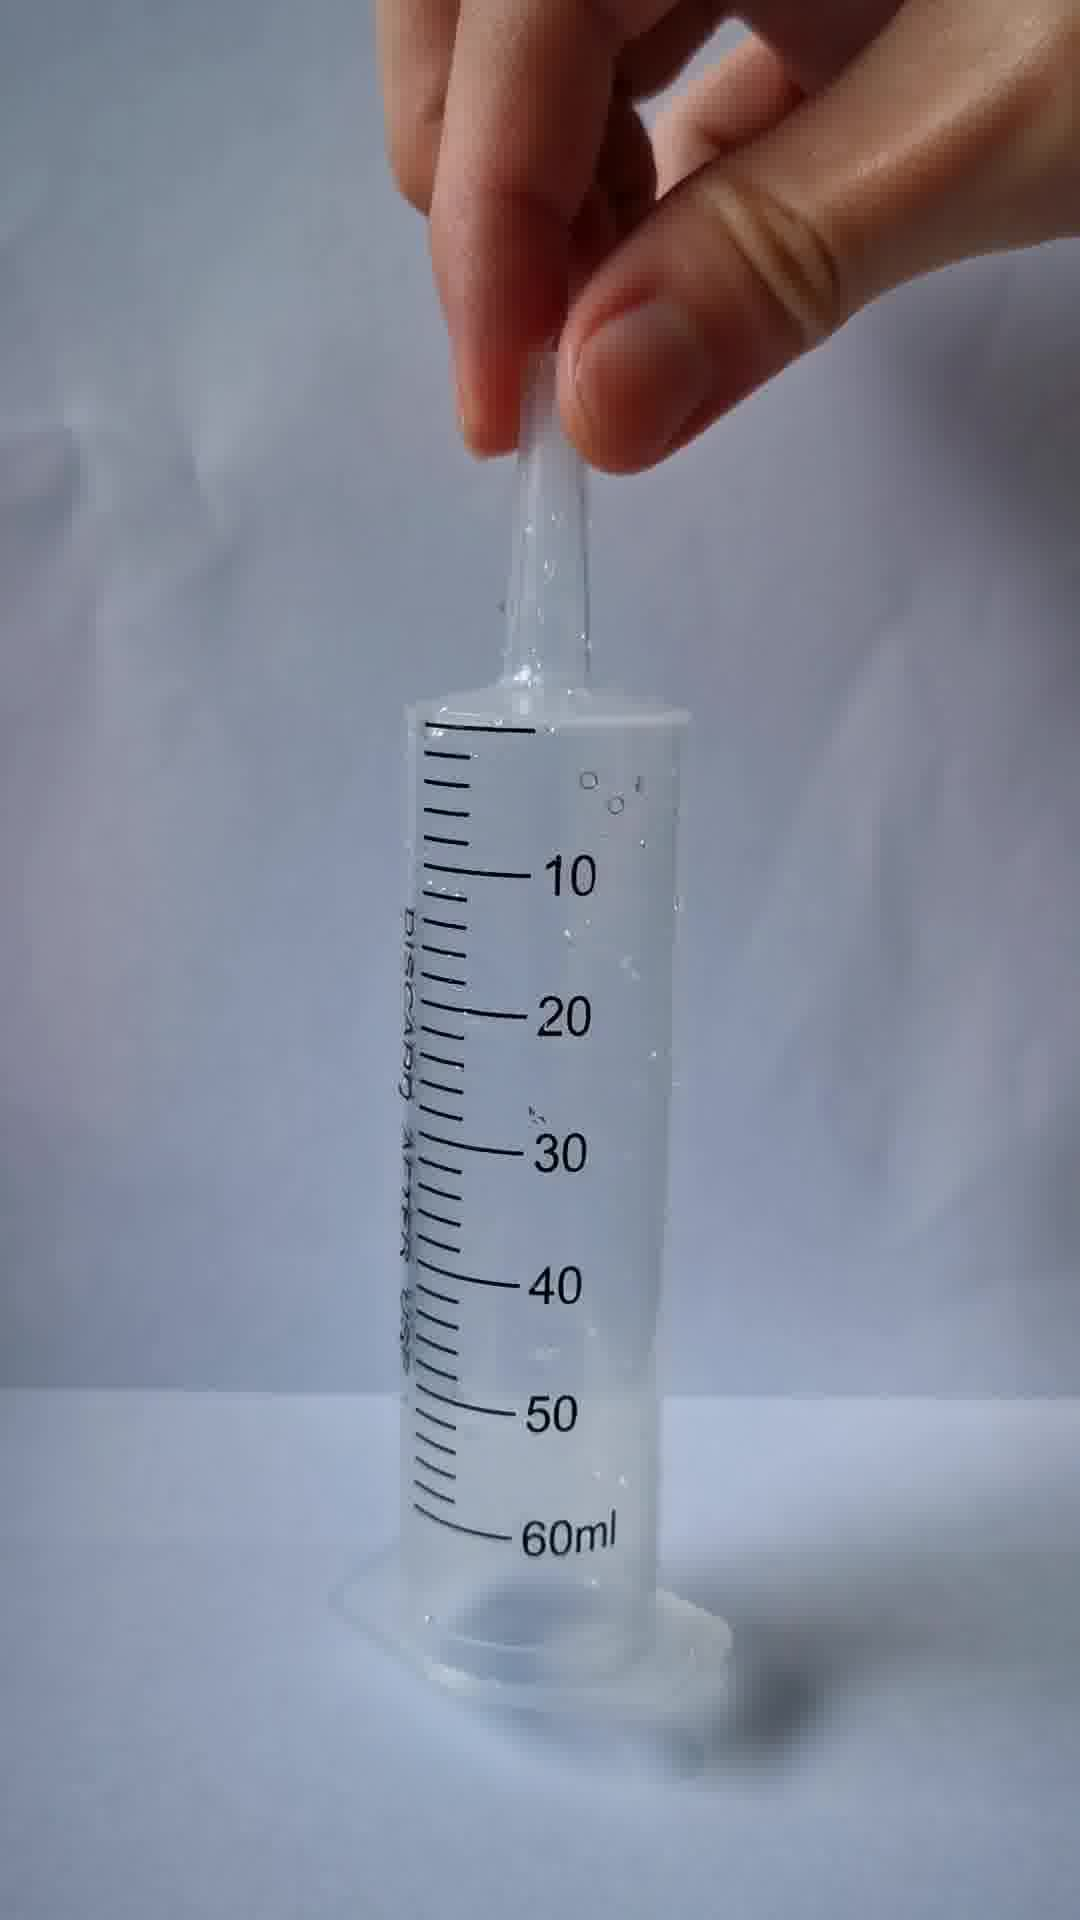syringe: (323, 352, 746, 1721)
